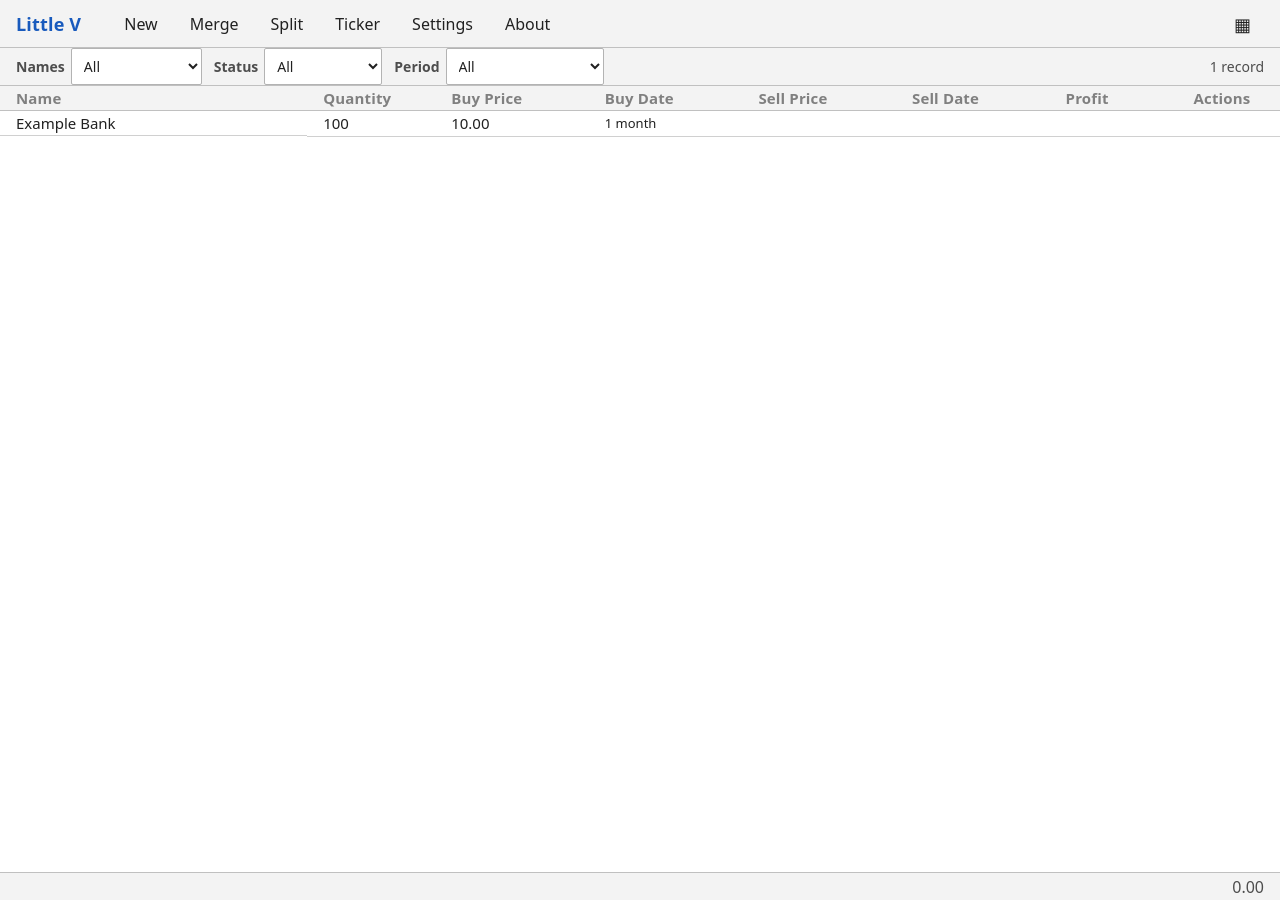
Test: App › opens a pre-filled edit dialog with a locked stock field when a row is double-clicked
The width and height of the screenshot is (1280, 900).
Expected: the text "Example Bank" is shown, [16,113,116,133]
Double-click the text "Example Bank" at (640, 123), box [0,110,1279,136]
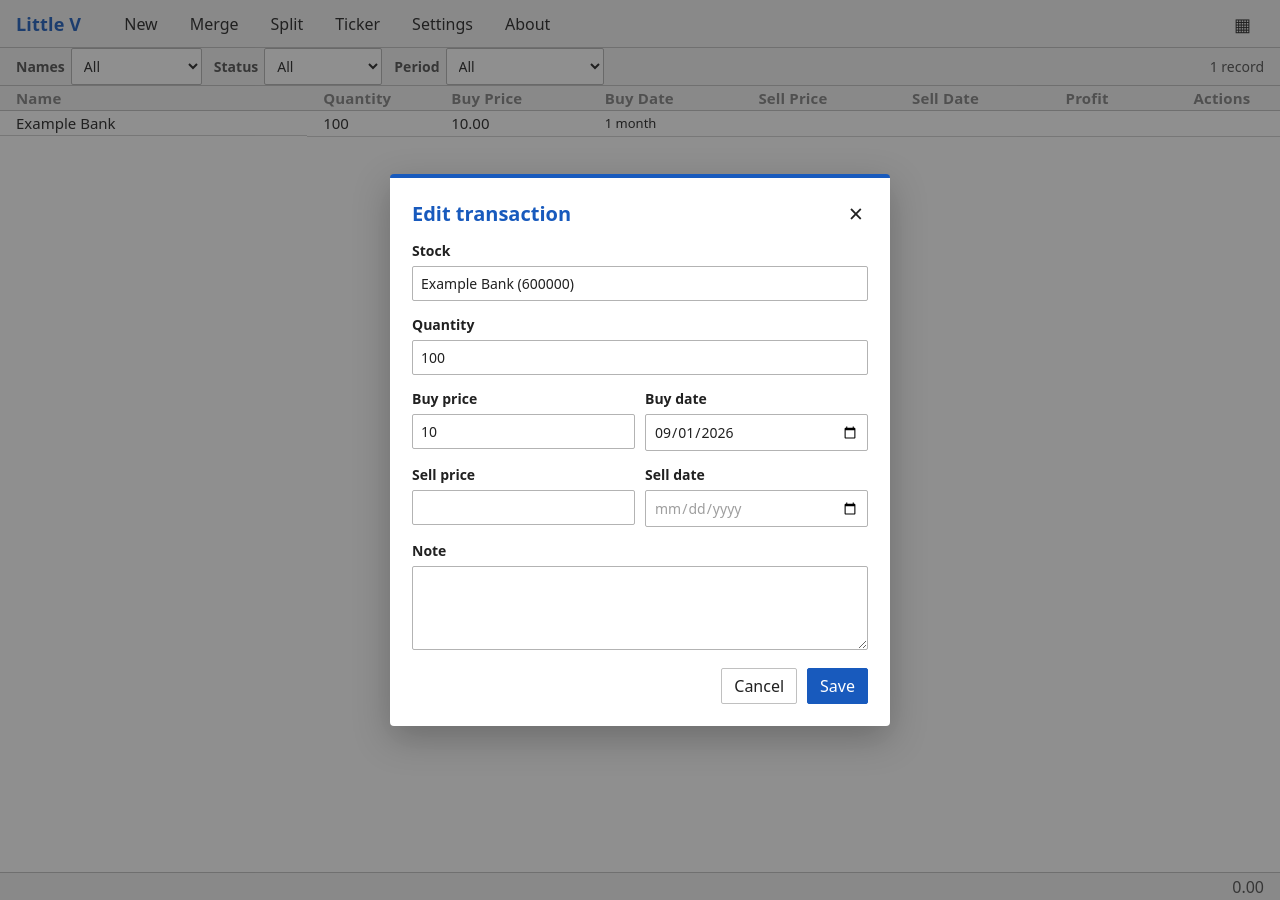
Expected: the heading "Edit transaction" is shown, [412,200,571,227]
Expected: the dropdown labelled "Stock" is disabled, [412,266,868,301]
Expected: the dropdown labelled "Stock" holds "Example Bank (600000)", [412,266,868,301]
